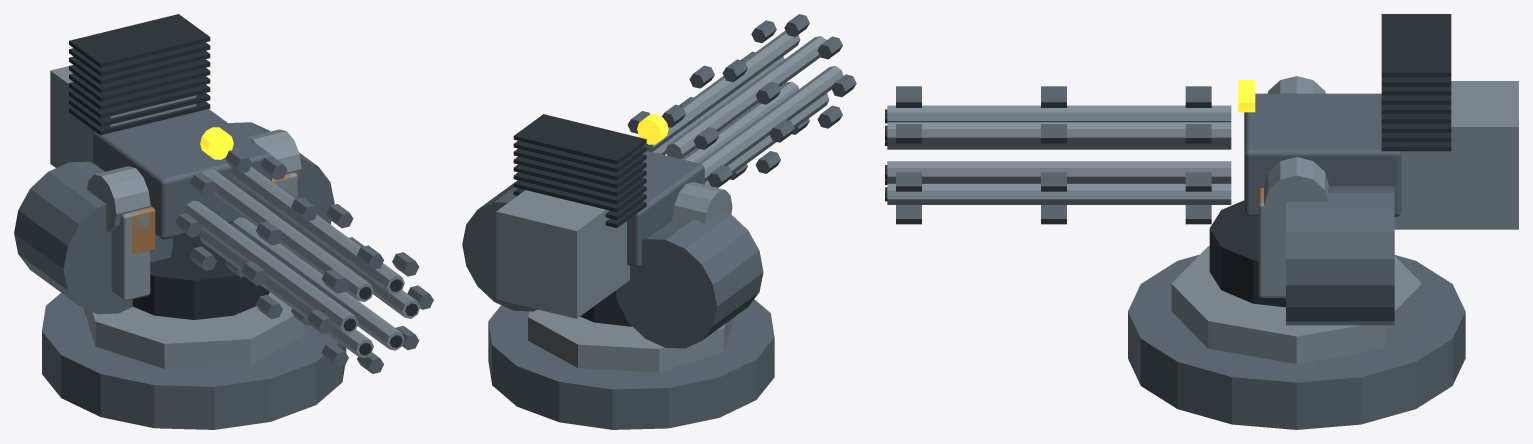
File: rotor_t3_d0.glb
3 renders of one model, left to right at view 1: azimuth 30°, elevation 25°; view 2: azimuth 150°, elevation 25°; view 3: azimuth 270°, elevation 25°, orthographic. The views are drawn at different scales.
Visible parts, largest first — view 1: RECOIL_ARMOR_GEOMETRY, BASE_ARMOR_GEOMETRY, ROTOR_ARMOR_GEOMETRY, YAW_ARMOR_GEOMETRY, RECOIL_SIGNAL_GEOMETRY; view 2: RECOIL_ARMOR_GEOMETRY, BASE_ARMOR_GEOMETRY, ROTOR_ARMOR_GEOMETRY, YAW_ARMOR_GEOMETRY, RECOIL_SIGNAL_GEOMETRY; view 3: RECOIL_ARMOR_GEOMETRY, BASE_ARMOR_GEOMETRY, ROTOR_ARMOR_GEOMETRY, YAW_ARMOR_GEOMETRY, RECOIL_SIGNAL_GEOMETRY.
Part boxes in pixels (x1,y1,x2,y2): RECOIL_ARMOR_GEOMETRY: (14, 14, 334, 314); BASE_ARMOR_GEOMETRY: (42, 292, 346, 429); ROTOR_ARMOR_GEOMETRY: (175, 149, 433, 373); YAW_ARMOR_GEOMETRY: (111, 172, 297, 319); RECOIL_SIGNAL_GEOMETRY: (200, 127, 233, 159); RECOIL_ARMOR_GEOMETRY: (462, 114, 763, 348); BASE_ARMOR_GEOMETRY: (488, 299, 774, 429); ROTOR_ARMOR_GEOMETRY: (627, 14, 856, 187); YAW_ARMOR_GEOMETRY: (580, 291, 631, 326); RECOIL_SIGNAL_GEOMETRY: (637, 114, 668, 144); RECOIL_ARMOR_GEOMETRY: (1244, 14, 1518, 325); BASE_ARMOR_GEOMETRY: (1128, 246, 1465, 429); ROTOR_ARMOR_GEOMETRY: (885, 86, 1231, 224); YAW_ARMOR_GEOMETRY: (1209, 191, 1285, 307); RECOIL_SIGNAL_GEOMETRY: (1238, 80, 1255, 112).
Bounding box in the file's own units: 1.58 × 1.6 × 2.91.
